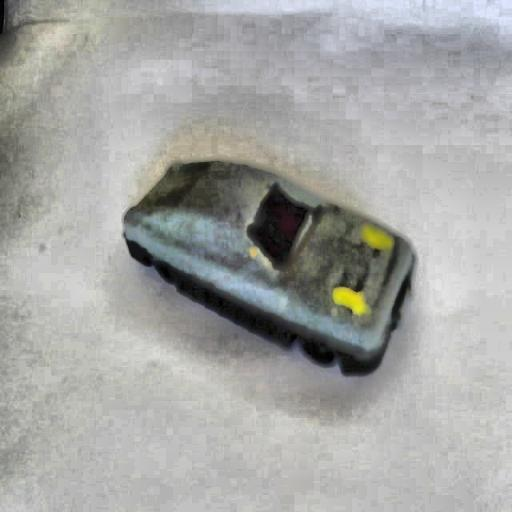normal_car: (116, 150, 422, 376)
